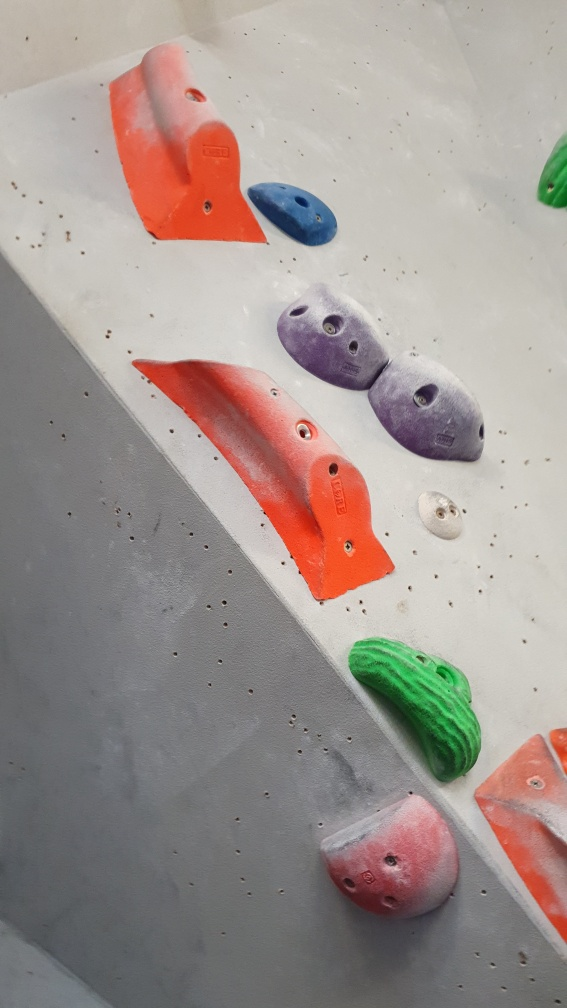Crimp: (251, 177, 342, 252)
Jug: (346, 628, 487, 784), (372, 346, 489, 468), (278, 277, 394, 391)
Pinch: (131, 357, 398, 604), (106, 39, 275, 251), (473, 732, 567, 948)
